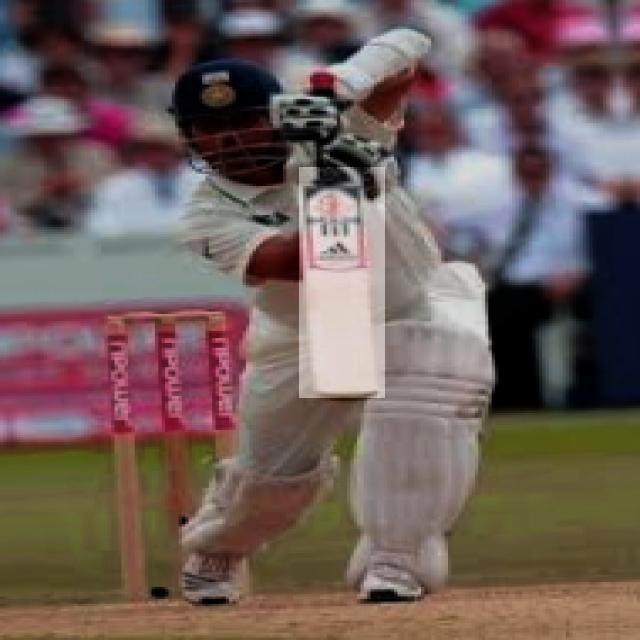bat: (300, 170, 387, 405)
toe: (315, 388, 380, 409)
